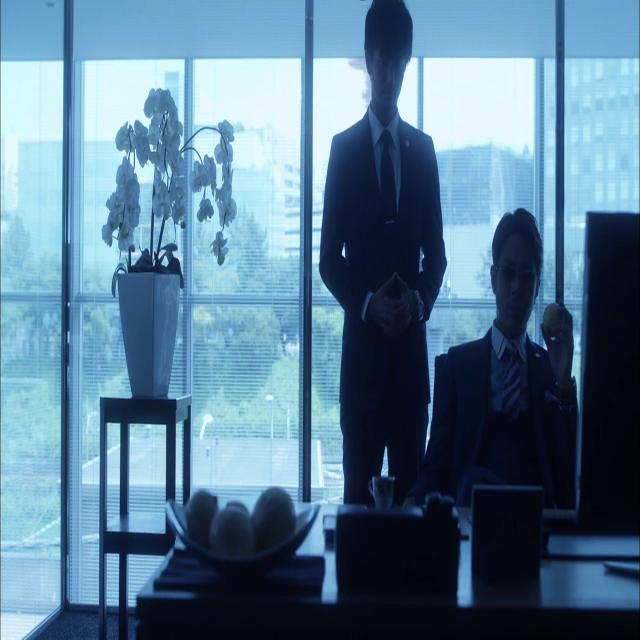Cup: (369, 467, 404, 524)
People: (355, 0, 461, 465), (478, 217, 586, 504)
Table: (136, 474, 640, 640), (81, 380, 205, 640)
